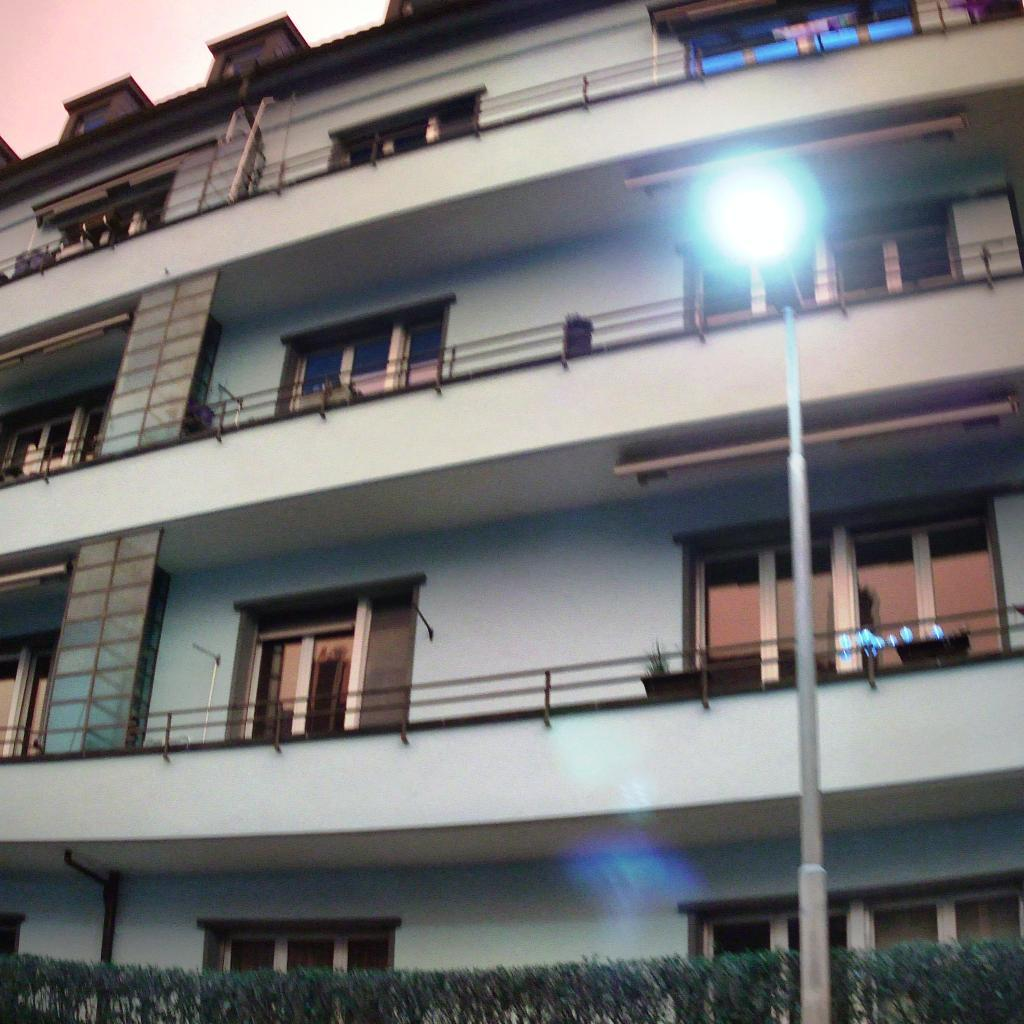balcony-fence: (0, 0, 1024, 288), (0, 235, 1023, 488), (0, 605, 1024, 763), (817, 604, 1024, 794)
traffic-infrastructure: (696, 160, 831, 1024)
vegetation: (0, 947, 798, 1024), (830, 936, 1024, 1024)
window: (692, 511, 1005, 696), (44, 527, 165, 751), (702, 225, 957, 325), (702, 883, 1024, 962), (92, 268, 220, 458), (244, 612, 412, 738), (688, 0, 915, 77), (300, 311, 442, 396), (160, 131, 248, 226), (349, 102, 473, 165), (223, 929, 394, 973), (2, 407, 105, 480), (63, 188, 167, 249), (0, 651, 52, 757)
